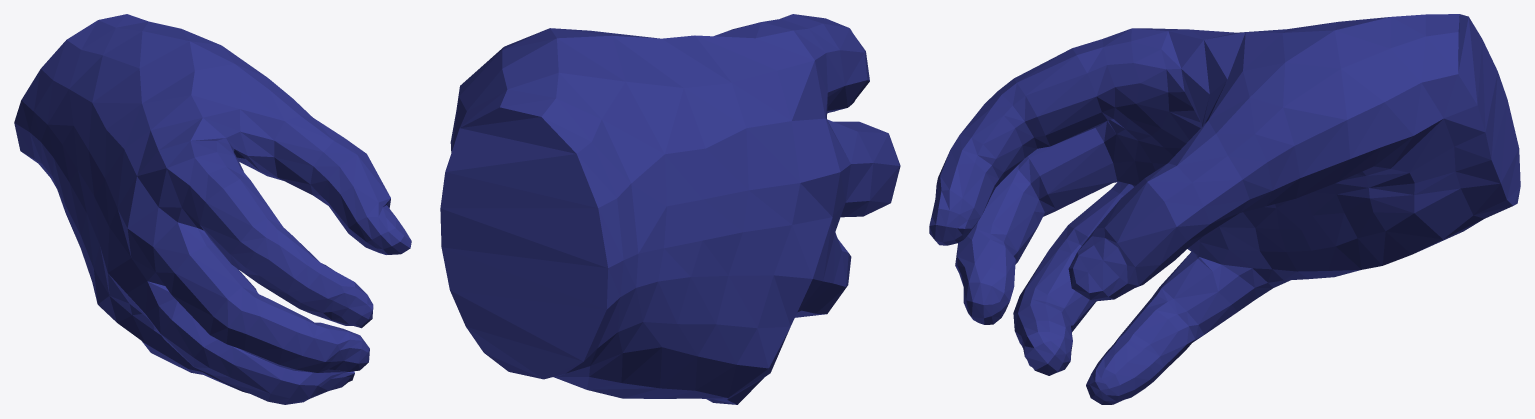
3 renders of one model, left to right at view 1: azimuth 30°, elevation 25°; view 2: azimuth 150°, elevation 25°; view 3: azimuth 270°, elevation 25°, orthographic. The views are drawn at different scales.
Bounding box in the file's own units: 0.0971 × 0.1093 × 0.1631.
